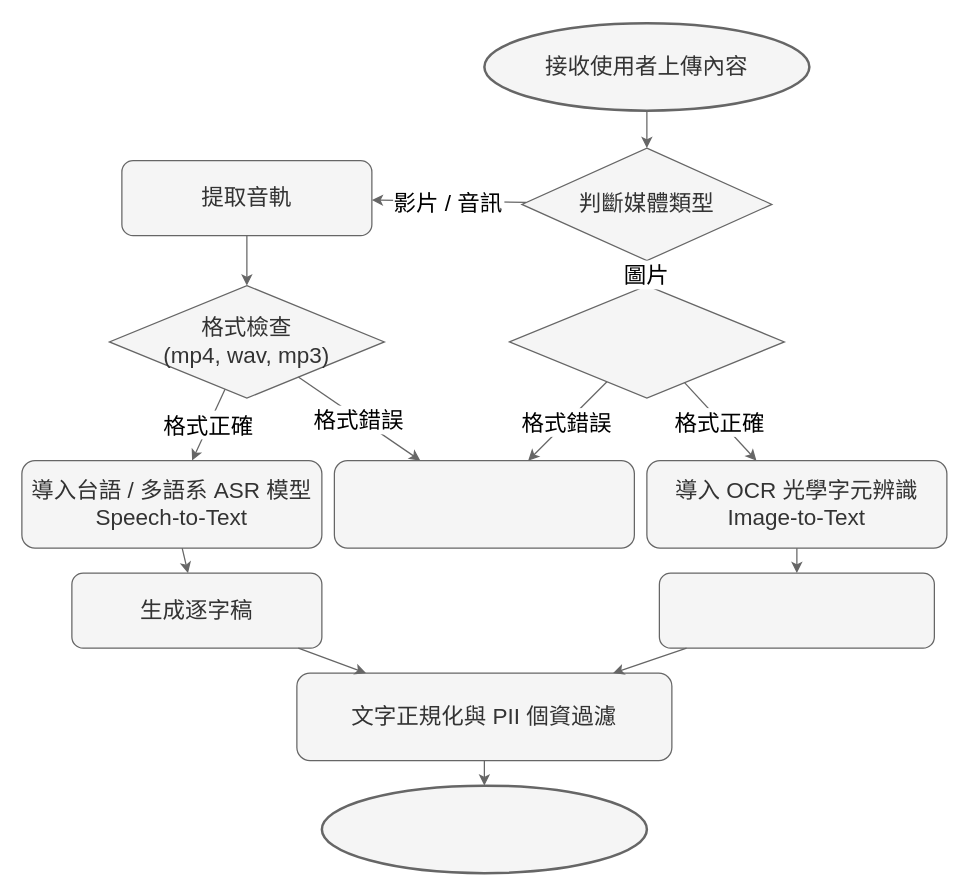
The diagram is 969 pixels wide and 895 high, and some of its shapes have lost their labels. Here are the shapes that lost their labels. From the top down, the centre of each, then its label:
point 646,341: 格式檢查 (jpg, png)
point 483,503: 回傳不支援格式訊息
point 796,610: 提取圖片內文字
point 484,829: 輸出結構化文本 至 RAG 事實查核模組
